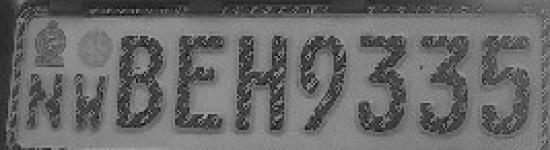3: (412, 25, 472, 142), (353, 25, 413, 139)
5: (472, 22, 539, 140)
9: (290, 23, 352, 140)
B: (113, 30, 171, 136)
E: (171, 28, 231, 138)
H: (232, 26, 294, 141)
N: (24, 67, 66, 139)
W: (67, 67, 110, 141)
